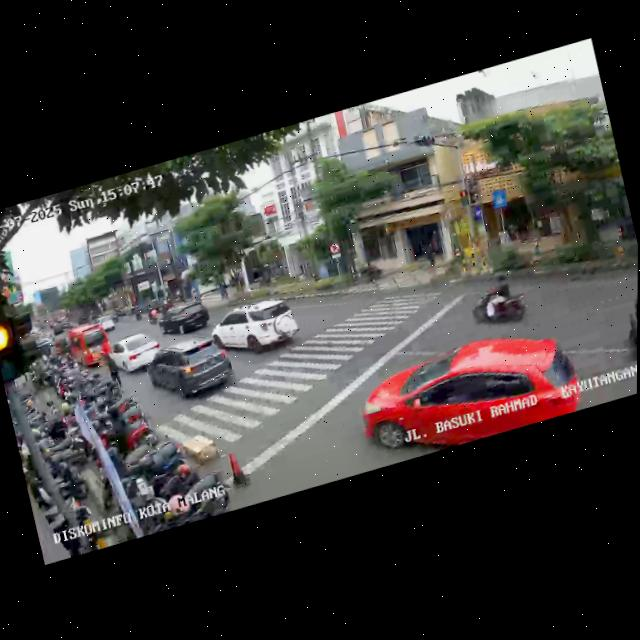car: (353, 313, 587, 469), (143, 327, 240, 412), (206, 289, 300, 365), (104, 327, 165, 382), (155, 296, 212, 343), (64, 318, 113, 372)
motorcycle: (465, 274, 530, 337), (612, 286, 638, 378), (146, 302, 161, 324)
person: (99, 347, 124, 390)
